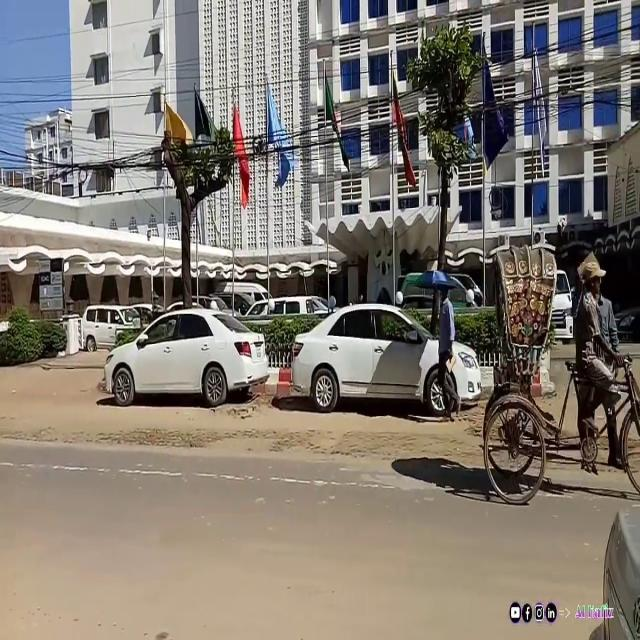white: (291, 305, 481, 417), (103, 309, 266, 407), (81, 303, 141, 354)
